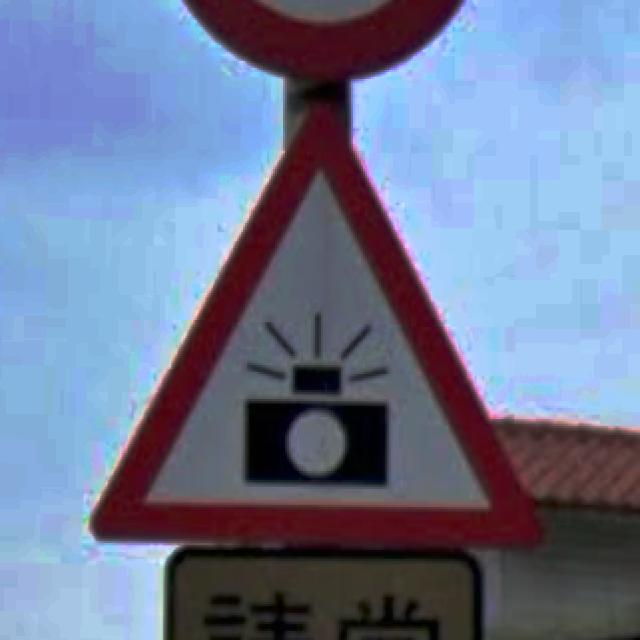speedcamera: (90, 92, 546, 550)
